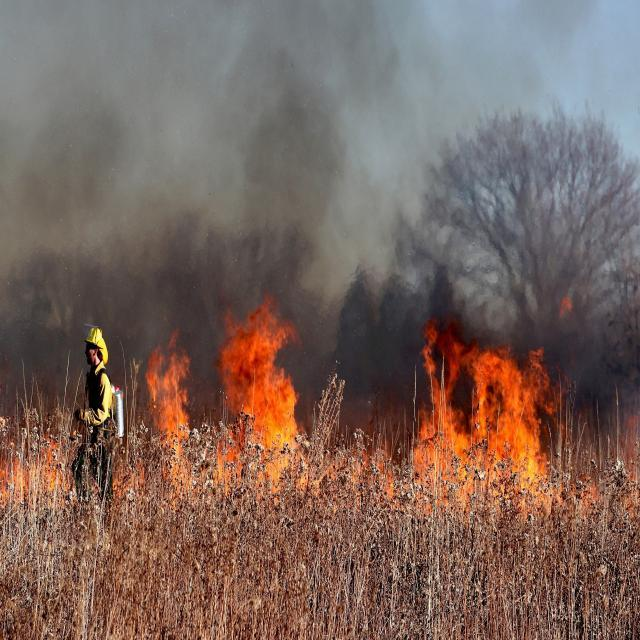Fire: (140, 292, 640, 507), (0, 429, 75, 522), (108, 454, 140, 534)
Smoke: (1, 0, 640, 411)
